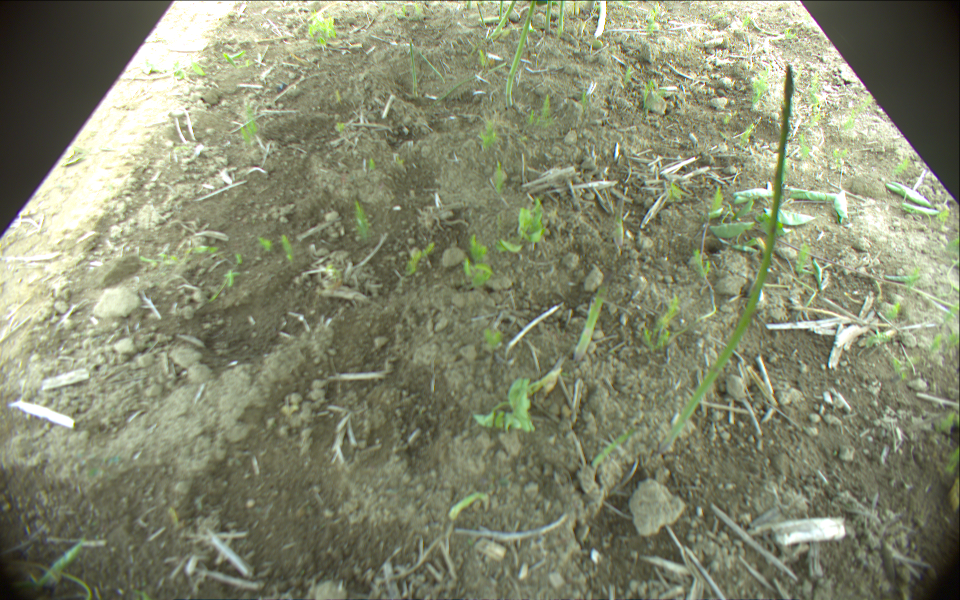aspa: (658, 63, 793, 451), (505, 1, 535, 108), (572, 285, 606, 358), (491, 1, 514, 37), (594, 1, 606, 35), (478, 13, 513, 24), (476, 1, 488, 27), (544, 1, 554, 32), (560, 1, 567, 35), (500, 1, 504, 21)
